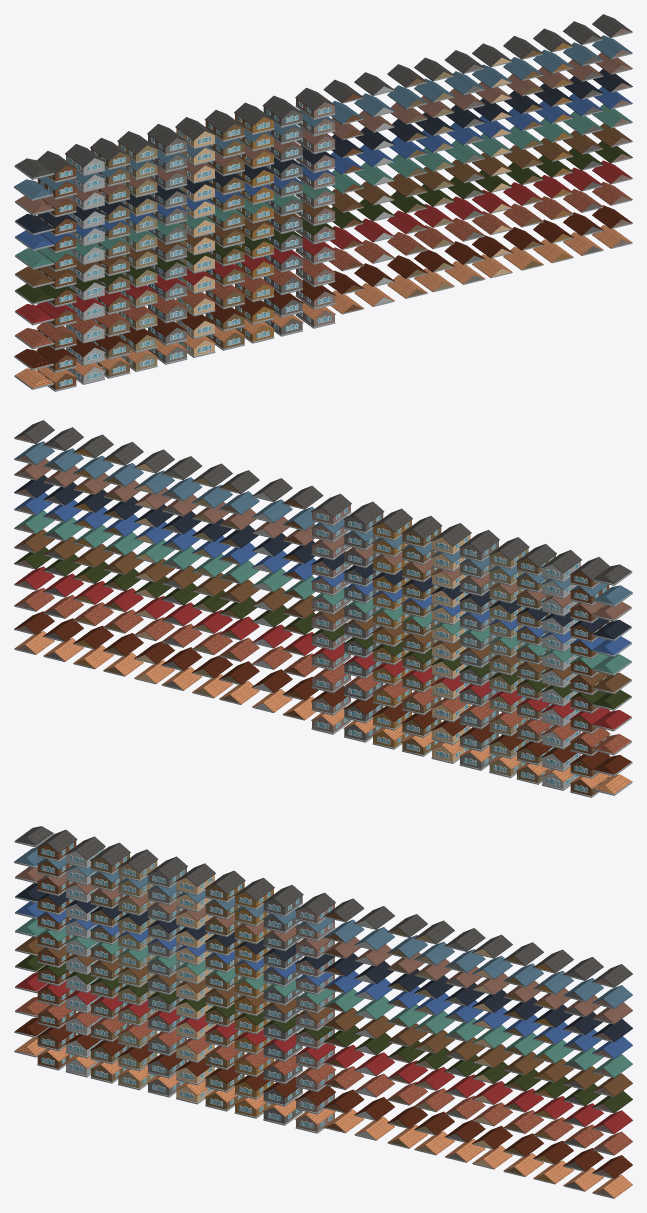
Rendered from ModularHouses_Roof_01.fbx.
The picture shows the model from 3 angles, top to bottom: view 1: azimuth 30°, elevation 25°; view 2: azimuth 150°, elevation 25°; view 3: azimuth 330°, elevation 25°; orthographic projection.
Visible parts, largest first — view 1: Roof_V_2_10_1, Roof_V_2_7_1, Roof_V_2_5_1, Roof_V_2_8_1, Roof_V_2_9_1, Roof_V_2_6_1, Roof_V_2_2_1, Roof_V_2_4_1, Roof_V_2_3_1, Roof_V_2_1_1, Roof_V_2_10_10, Roof_V_2_10_11 (+120 smaller); view 2: Roof_V_2_10_1, Roof_V_2_7_1, Roof_V_2_5_1, Roof_V_2_8_1, Roof_V_2_9_1, Roof_V_2_6_1, Roof_V_2_2_1, Roof_V_2_4_1, Roof_V_2_3_1, Roof_V_2_1_1, Roof_V_2_10_10, Roof_V_2_10_11 (+122 smaller); view 3: Roof_V_2_9_1, Roof_V_2_4_1, Roof_V_2_7_1, Roof_V_2_6_1, Roof_V_2_1_1, Roof_V_2_8_1, Roof_V_2_5_1, Roof_V_2_10_1, Roof_V_2_3_1, Roof_V_2_2_1, Roof_V_2_10_11, Roof_V_2_10_10 (+145 smaller).
Part boxes in pixels (bbox=[...]): Roof_V_2_10_1: bbox=[295, 87, 335, 119]; Roof_V_2_7_1: bbox=[204, 110, 245, 141]; Roof_V_2_5_1: bbox=[147, 124, 187, 155]; Roof_V_2_8_1: bbox=[234, 102, 274, 134]; Roof_V_2_9_1: bbox=[262, 95, 303, 127]; Roof_V_2_6_1: bbox=[175, 117, 215, 149]; Roof_V_2_2_1: bbox=[65, 144, 105, 176]; Roof_V_2_4_1: bbox=[117, 131, 158, 163]; Roof_V_2_3_1: bbox=[90, 138, 130, 169]; Roof_V_2_1_1: bbox=[37, 151, 76, 182]; Roof_V_2_10_10: bbox=[295, 257, 335, 287]; Roof_V_2_10_11: bbox=[295, 280, 335, 309]; Roof_V_2_10_1: bbox=[311, 493, 351, 525]; Roof_V_2_7_1: bbox=[401, 516, 442, 547]; Roof_V_2_5_1: bbox=[459, 530, 499, 561]; Roof_V_2_8_1: bbox=[372, 508, 412, 540]; Roof_V_2_9_1: bbox=[343, 501, 384, 533]; Roof_V_2_6_1: bbox=[431, 523, 471, 555]; Roof_V_2_2_1: bbox=[541, 550, 581, 582]; Roof_V_2_4_1: bbox=[488, 537, 529, 569]; Roof_V_2_3_1: bbox=[516, 544, 556, 575]; Roof_V_2_1_1: bbox=[570, 557, 609, 588]; Roof_V_2_10_10: bbox=[311, 663, 351, 693]; Roof_V_2_10_11: bbox=[311, 686, 351, 715]; Roof_V_2_9_1: bbox=[263, 884, 303, 916]; Roof_V_2_4_1: bbox=[117, 849, 158, 881]; Roof_V_2_7_1: bbox=[204, 870, 245, 902]; Roof_V_2_6_1: bbox=[175, 863, 215, 895]; Roof_V_2_1_1: bbox=[36, 829, 77, 861]; Roof_V_2_8_1: bbox=[234, 877, 274, 909]; Roof_V_2_5_1: bbox=[147, 856, 187, 888]; Roof_V_2_10_1: bbox=[295, 892, 335, 924]; Roof_V_2_3_1: bbox=[90, 842, 130, 874]; Roof_V_2_2_1: bbox=[65, 836, 105, 868]; Roof_V_2_10_11: bbox=[295, 1085, 335, 1114]; Roof_V_2_10_10: bbox=[295, 1064, 335, 1092].
Bounding box in the file's own units: 1173 × 422 × 62.95.
